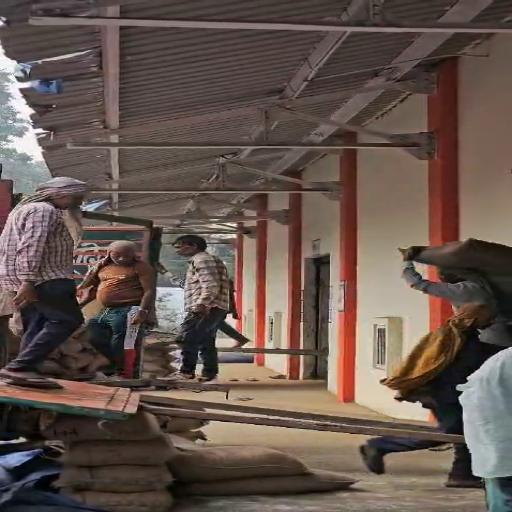bag: (401, 234, 512, 289)
